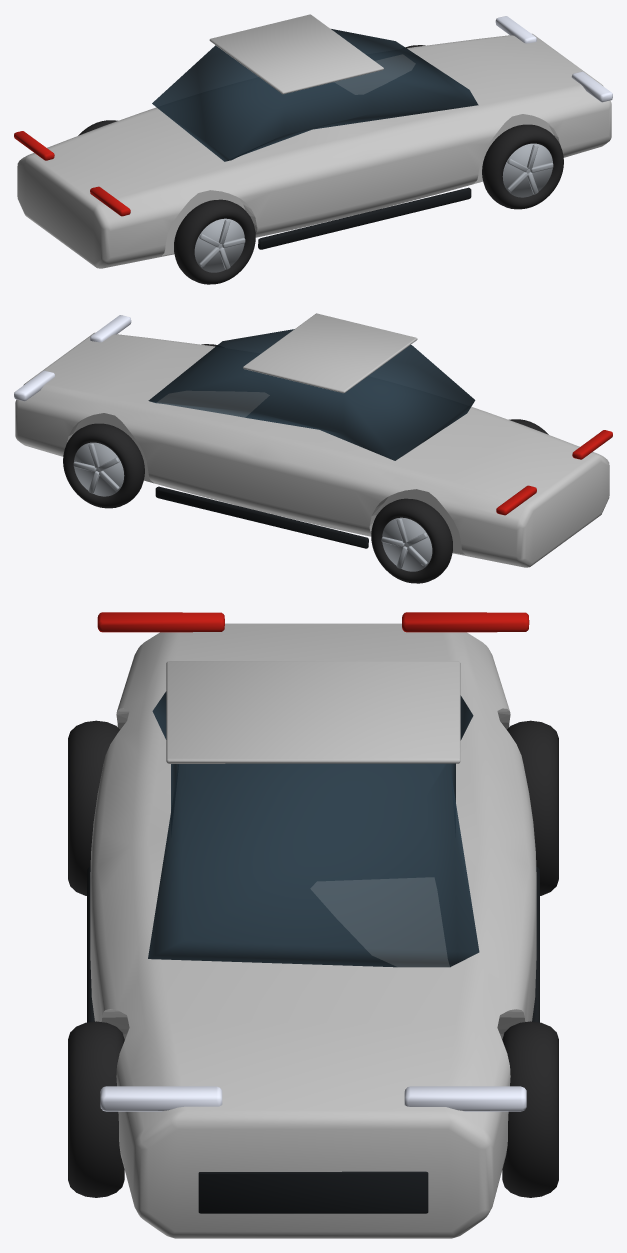
File: vehicle-lod1.glb
The picture shows the model from 3 angles, top to bottom: view 1: azimuth 30°, elevation 25°; view 2: azimuth 150°, elevation 25°; view 3: azimuth 270°, elevation 25°; orthographic projection. The views are drawn at different scales.
Parts seen in each view (by area): view 1: chassis_LOD1, cabin_glass_LOD1, roof_LOD1, wheel_front_left_LOD1, wheel_rear_left_LOD1, side_sill_-1_LOD1, wheel_front_left_rim_LOD1, wheel_rear_left_rim_LOD1, front_lamp_-1_LOD1, front_lamp_1_LOD1, rear_lamp_-1_LOD1, rear_lamp_1_LOD1; view 2: chassis_LOD1, cabin_glass_LOD1, roof_LOD1, wheel_front_right_LOD1, wheel_rear_right_LOD1, side_sill_1_LOD1, wheel_front_right_rim_LOD1, wheel_rear_right_rim_LOD1, front_lamp_1_LOD1, front_lamp_-1_LOD1, rear_lamp_1_LOD1, rear_lamp_-1_LOD1; view 3: chassis_LOD1, cabin_glass_LOD1, roof_LOD1, front_grille_LOD1, wheel_front_left_LOD1, wheel_front_right_LOD1, wheel_rear_left_LOD1, wheel_rear_right_LOD1, front_lamp_-1_LOD1, front_lamp_1_LOD1, rear_lamp_-1_LOD1, rear_lamp_1_LOD1.
Boxes of the visible parts, x1,y1,x2,y2 form: chassis_LOD1: (17, 33, 611, 268); cabin_glass_LOD1: (152, 29, 478, 161); roof_LOD1: (209, 14, 383, 94); wheel_front_left_LOD1: (482, 124, 563, 209); wheel_rear_left_LOD1: (174, 199, 255, 284); side_sill_-1_LOD1: (258, 187, 471, 249); wheel_front_left_rim_LOD1: (502, 143, 552, 197); wheel_rear_left_rim_LOD1: (194, 218, 244, 272); front_lamp_-1_LOD1: (571, 71, 612, 102); front_lamp_1_LOD1: (495, 16, 536, 43); rear_lamp_-1_LOD1: (90, 186, 130, 216); rear_lamp_1_LOD1: (14, 131, 54, 160); chassis_LOD1: (15, 332, 609, 567); cabin_glass_LOD1: (148, 329, 475, 460); roof_LOD1: (243, 313, 417, 393); wheel_front_right_LOD1: (63, 423, 144, 508); wheel_rear_right_LOD1: (371, 498, 452, 583); side_sill_1_LOD1: (155, 486, 368, 548); wheel_front_right_rim_LOD1: (74, 442, 124, 496); wheel_rear_right_rim_LOD1: (382, 517, 432, 571); front_lamp_1_LOD1: (14, 370, 54, 401); front_lamp_-1_LOD1: (90, 315, 131, 342); rear_lamp_1_LOD1: (496, 485, 536, 515); rear_lamp_-1_LOD1: (572, 430, 612, 459); chassis_LOD1: (90, 623, 536, 1238); cabin_glass_LOD1: (148, 691, 479, 967); roof_LOD1: (166, 661, 460, 763); front_grille_LOD1: (198, 1171, 428, 1213); wheel_front_left_LOD1: (68, 1021, 124, 1197); wheel_front_right_LOD1: (502, 1021, 558, 1197); wheel_rear_left_LOD1: (68, 720, 119, 895); wheel_rear_right_LOD1: (507, 720, 558, 895); front_lamp_-1_LOD1: (100, 1086, 222, 1111); front_lamp_1_LOD1: (404, 1086, 526, 1111); rear_lamp_-1_LOD1: (97, 612, 224, 632); rear_lamp_1_LOD1: (402, 612, 529, 632).
Bounding box in the file's own units: 4.81 × 1.4 × 2.
